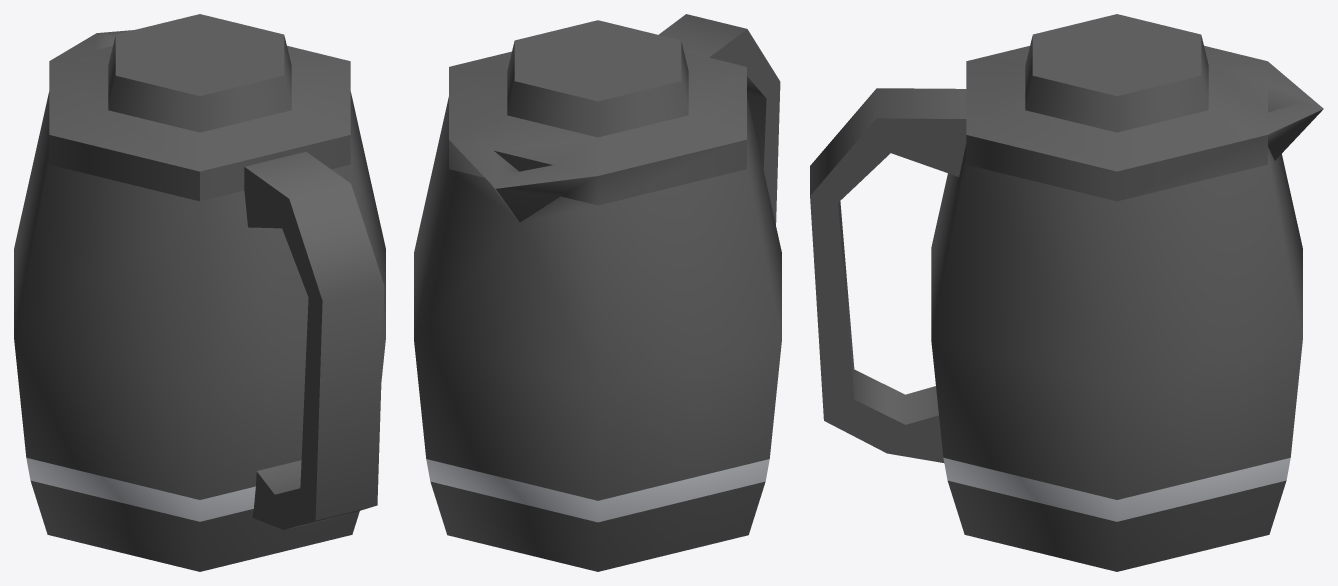
Rendered from SM_Prop_CoffeePot_01.obj.
3 views of the same model, side by side, from view 1: azimuth 30°, elevation 25°; view 2: azimuth 150°, elevation 25°; view 3: azimuth 270°, elevation 25° (orthographic).
Visible parts, largest first — view 1: SM_Prop_CoffeePot_01_Mat_SwatchOverlay_PolygonTown_01_Inst, SM_Prop_CoffeePot_01_Mat_PolygonTown_Glass; view 2: SM_Prop_CoffeePot_01_Mat_PolygonTown_Glass, SM_Prop_CoffeePot_01_Mat_SwatchOverlay_PolygonTown_01_Inst; view 3: SM_Prop_CoffeePot_01_Mat_PolygonTown_Glass, SM_Prop_CoffeePot_01_Mat_SwatchOverlay_PolygonTown_01_Inst.
Boxes of the visible parts, x1,y1,x2,y2 form: SM_Prop_CoffeePot_01_Mat_SwatchOverlay_PolygonTown_01_Inst: (26,14,384,571); SM_Prop_CoffeePot_01_Mat_PolygonTown_Glass: (14,91,385,499); SM_Prop_CoffeePot_01_Mat_PolygonTown_Glass: (414,97,781,500); SM_Prop_CoffeePot_01_Mat_SwatchOverlay_PolygonTown_01_Inst: (426,14,780,571); SM_Prop_CoffeePot_01_Mat_PolygonTown_Glass: (931,144,1302,499); SM_Prop_CoffeePot_01_Mat_SwatchOverlay_PolygonTown_01_Inst: (810,14,1323,571).
Size of the model in its own units: 0.4511 by 0.5131 by 0.5401.
Materials: 2 (2 with a texture image).
